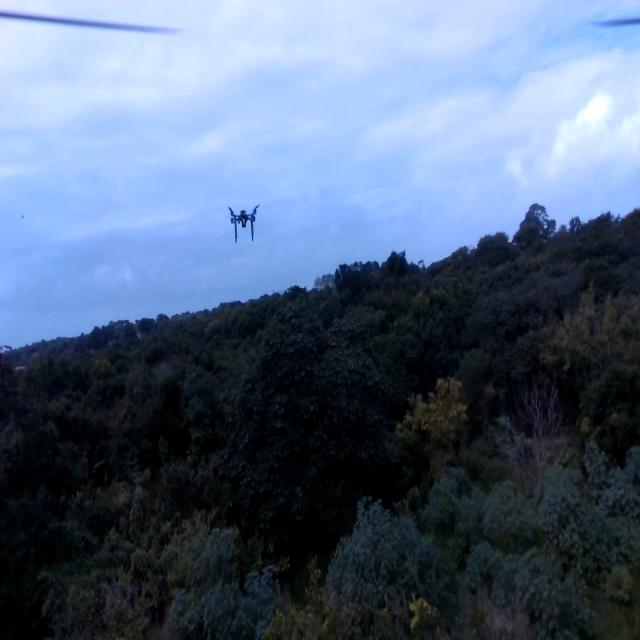-uav-: (219, 194, 266, 256)
